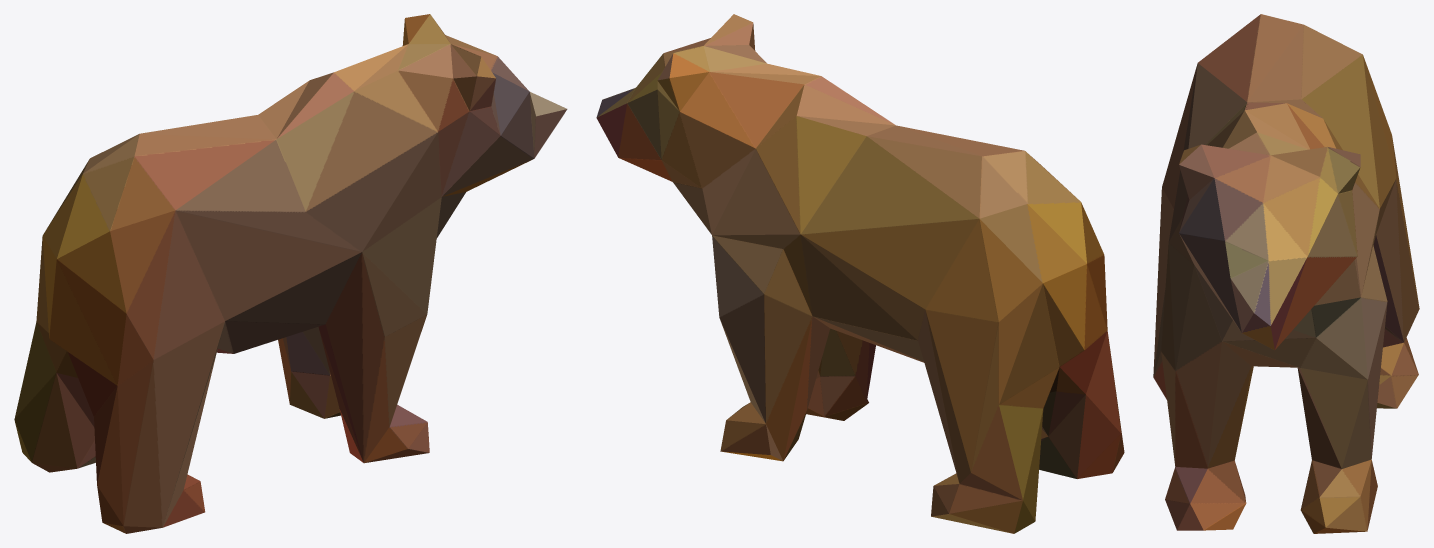
Rendered from bear.fbx.
3 views of the same model, side by side, from view 1: azimuth 30°, elevation 25°; view 2: azimuth 150°, elevation 25°; view 3: azimuth 270°, elevation 25° (orthographic). The views are drawn at different scales.
Parts seen in each view (by area): view 1: Mesh_0; view 2: Mesh_0; view 3: Mesh_0.
Part boxes in pixels (box(x1,y1,x2,y2)): Mesh_0: box(14, 14, 567, 533); Mesh_0: box(596, 14, 1124, 533); Mesh_0: box(1153, 14, 1419, 533).
Size of the model in its own units: 301 by 220 by 123.
1 material, 1 textured.
